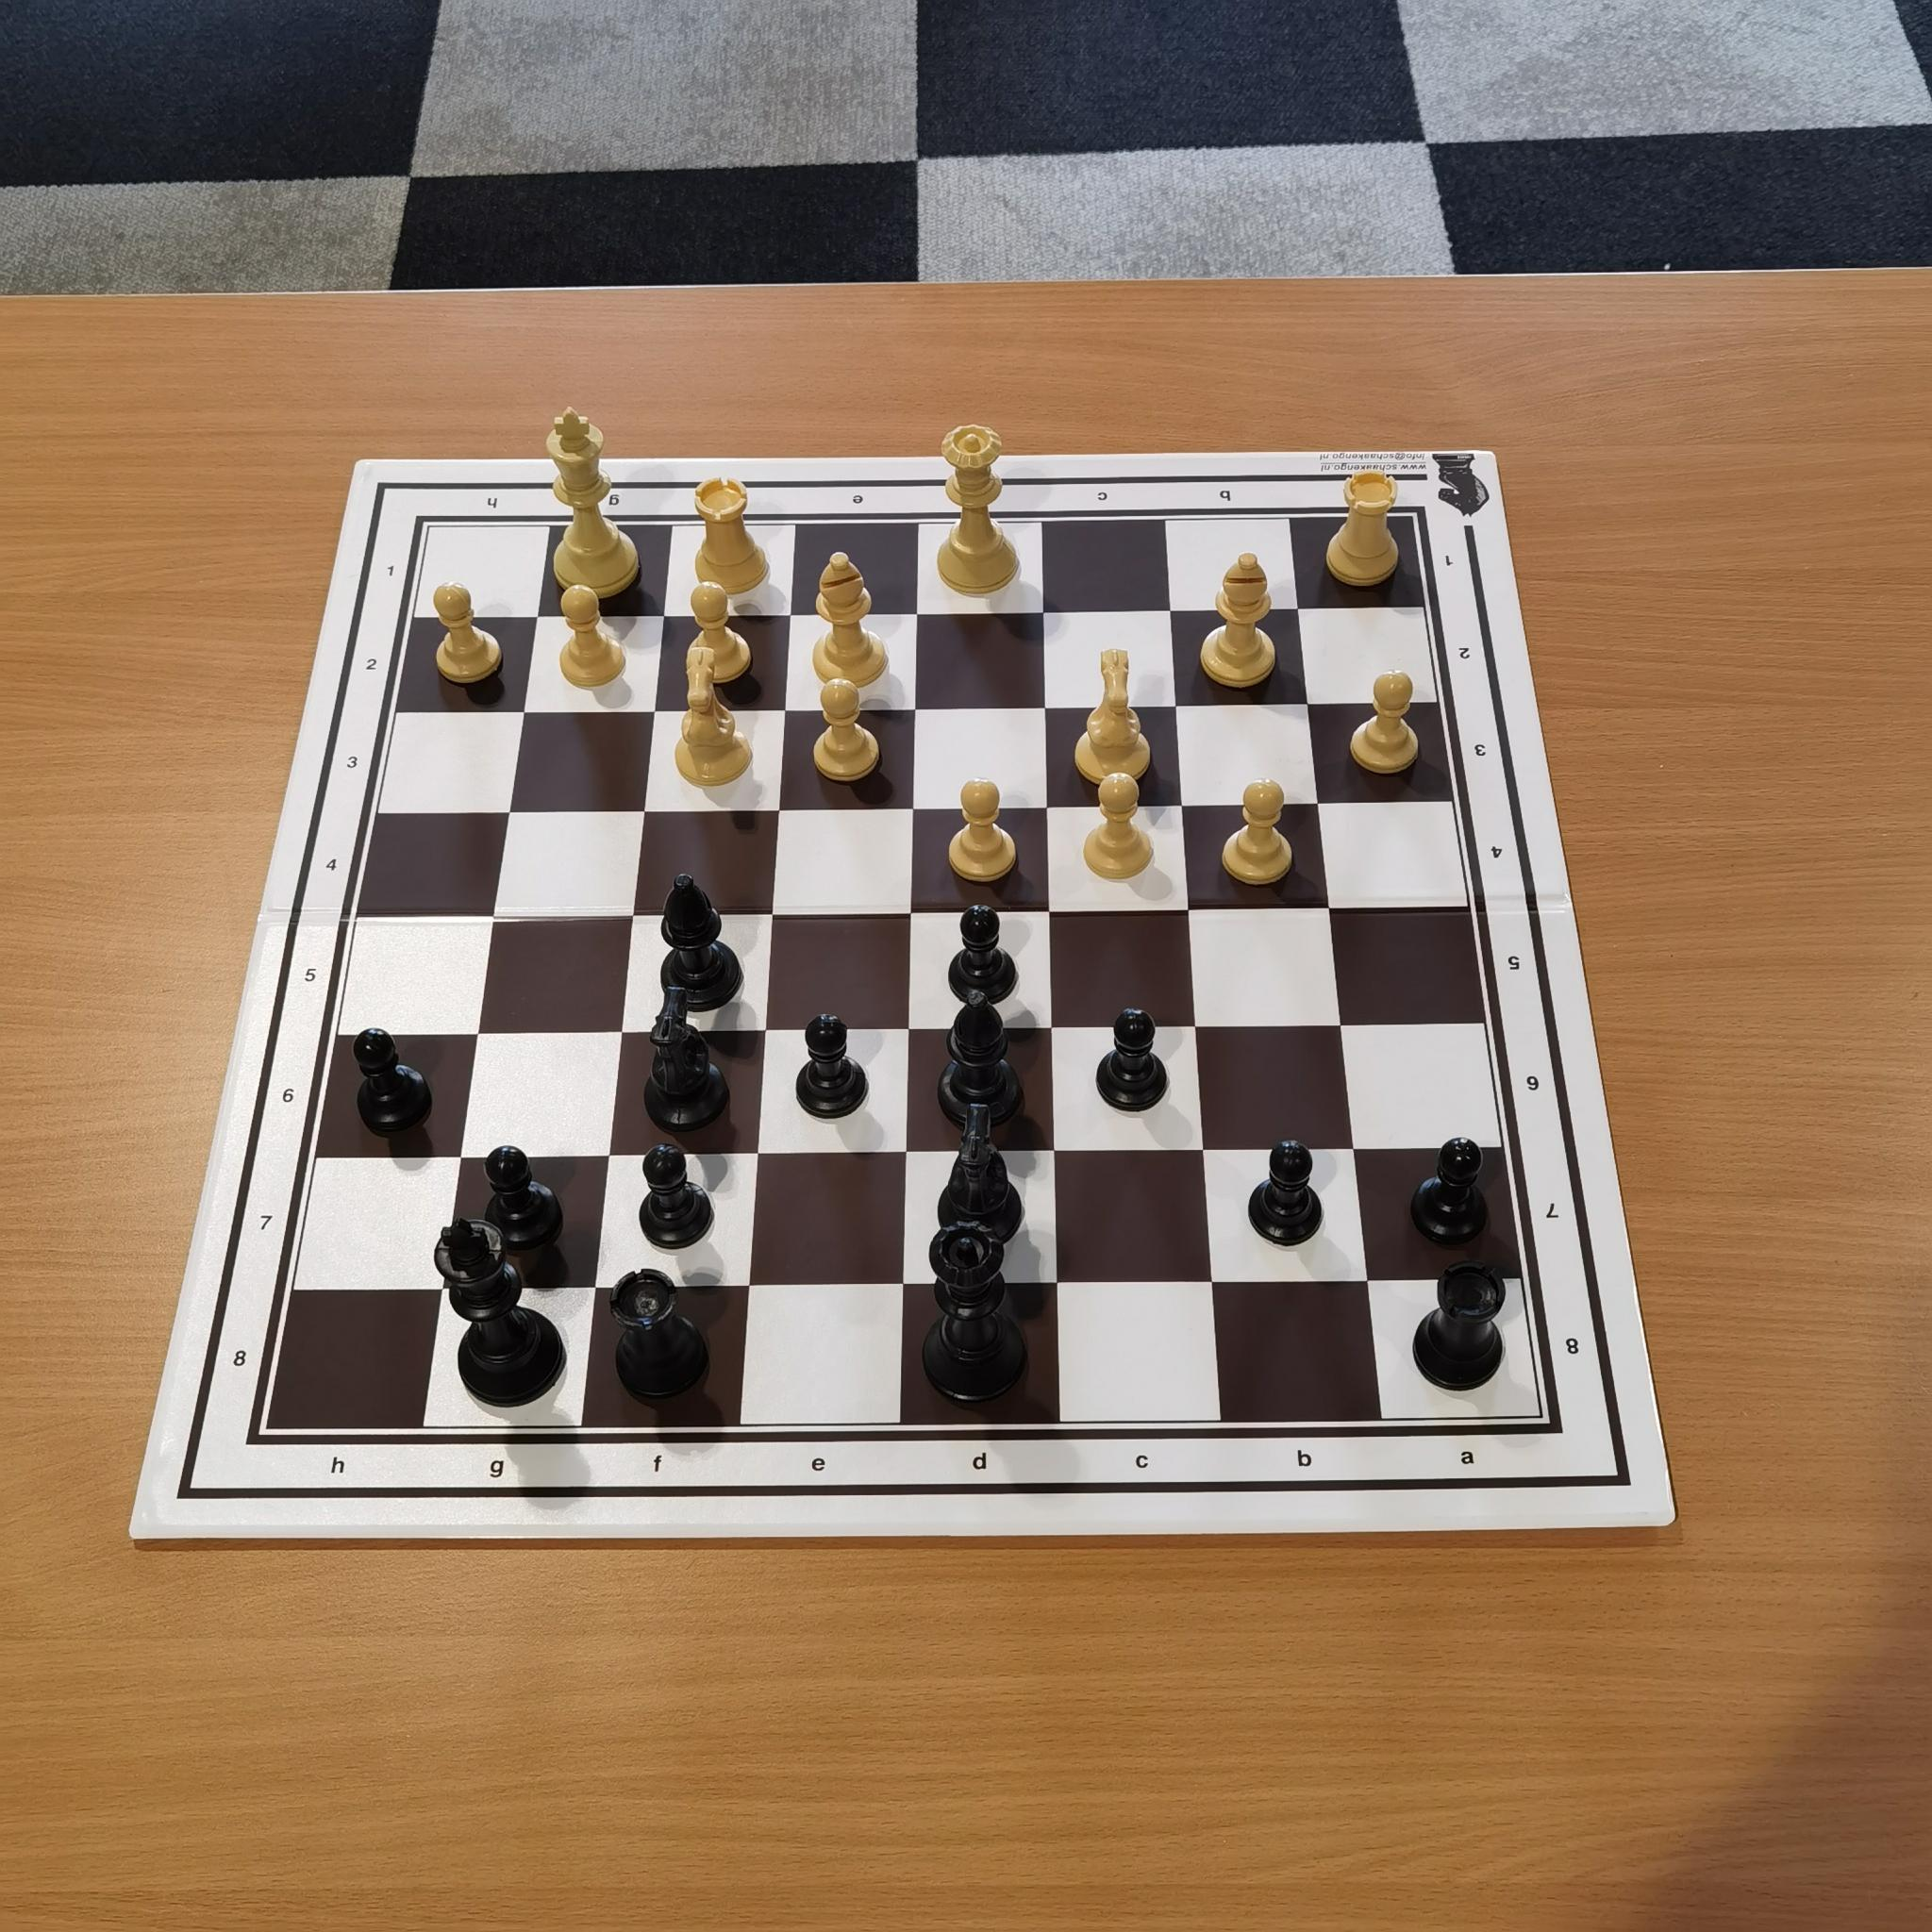corners: (1528, 1402, 1577, 1447), (234, 1415, 279, 1459), (404, 505, 451, 547), (1395, 496, 1438, 539)
eight: (218, 1334, 261, 1388), (1558, 1324, 1596, 1375)
one: (1435, 539, 1471, 584), (378, 547, 409, 587)
